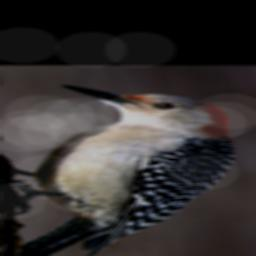Woodpecker: (0, 84, 236, 256)
